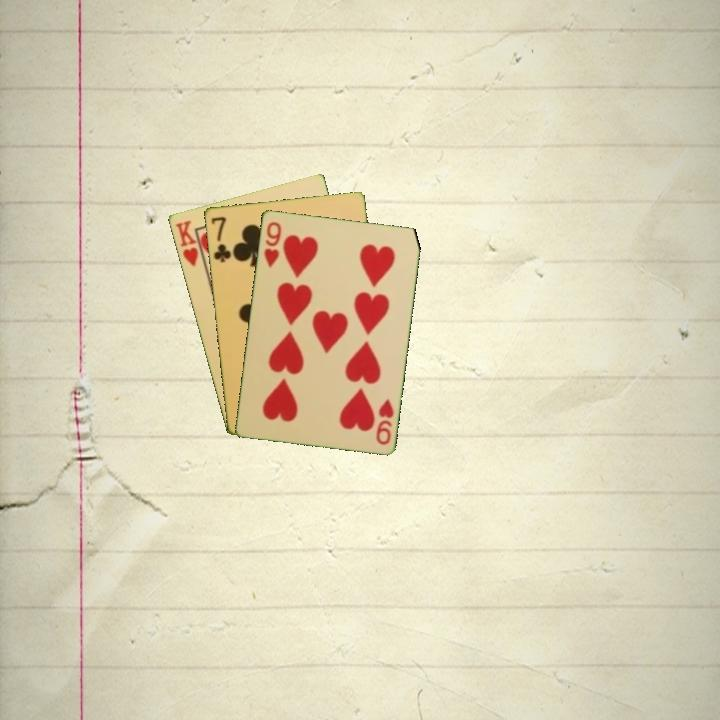7c: (207, 213, 234, 265)
9h: (372, 395, 397, 447), (260, 218, 284, 270)
Kh: (171, 216, 207, 269)
